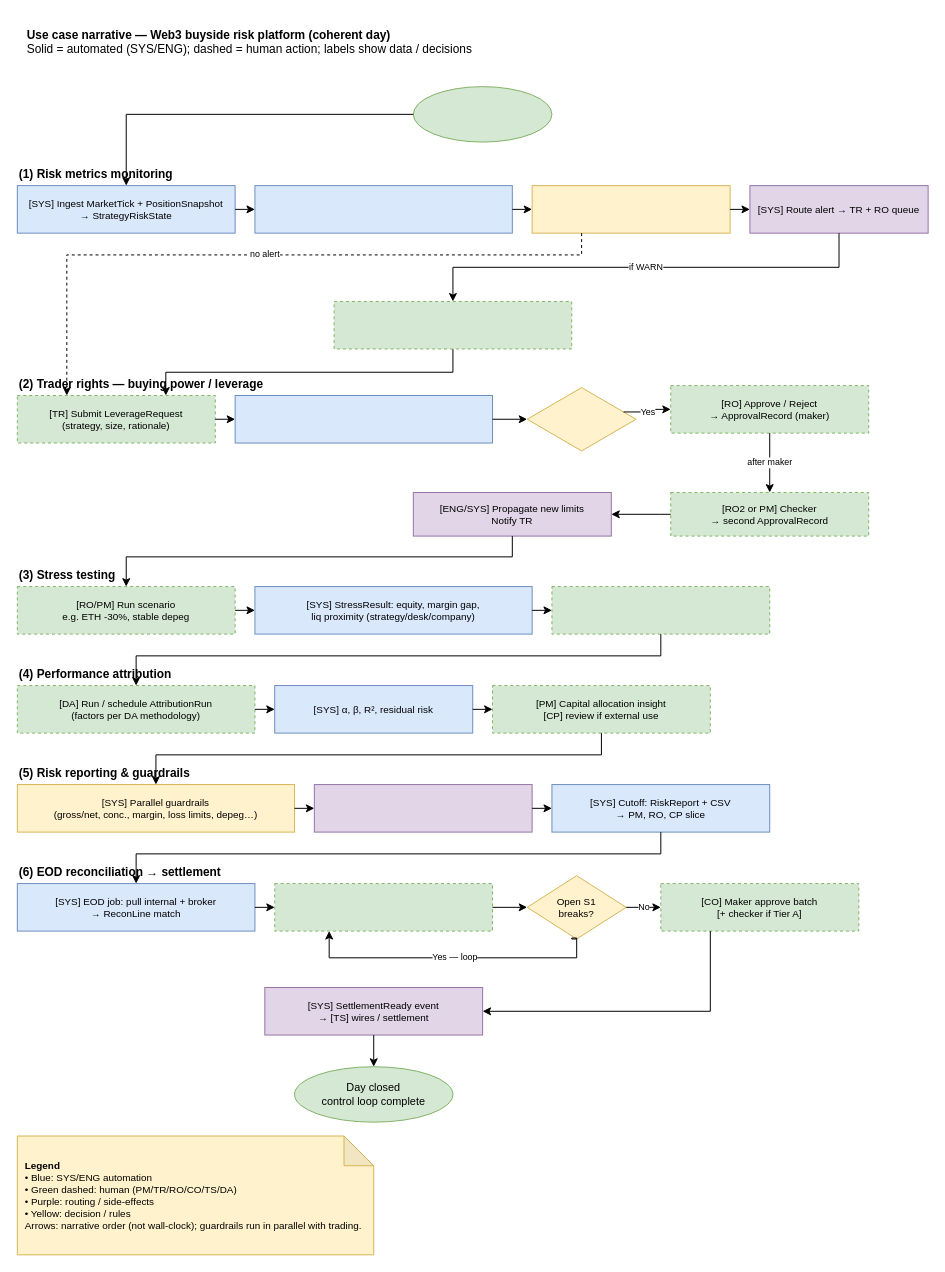
This 945x1272 diagram has some shape labels left out. The centre of each missing label's shape, as x and y in pixels:
[CO] Clear exceptions re-pull / broker ticket / notes: (x=383, y=907)
[PM] Pre-hedge / sizing decision [RO] Attach to risk pack: (x=660, y=610)
[SYS] Build EligibilityPacket (perf, DD, VaR util, compliance flags): (x=363, y=419)
[SYS] Roll up DeskRiskState, CompanyRiskState [PM/TR/RO view same hierarchy]: (x=383, y=209)
[SYS] Rule engine: VaR → WARN? Emit AlertEvent: (x=630, y=209)
[TR] Reduce risk / adjust book [RO] Ack + log context (audit): (x=452, y=324)
Breach? → AlertEvent → TR + RO (same path as (1)): (x=422, y=808)
Start trading day [TR opens dashboard]: (x=482, y=114)
Tier A+ material?: (x=581, y=419)
